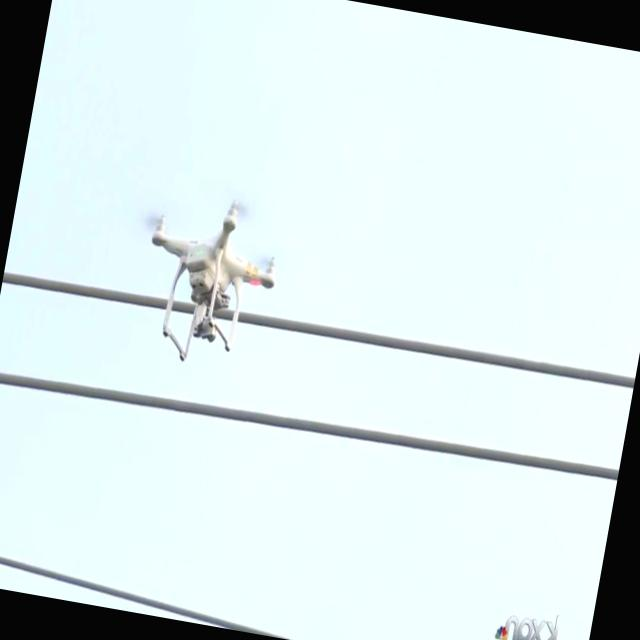drone: (128, 181, 290, 375)
